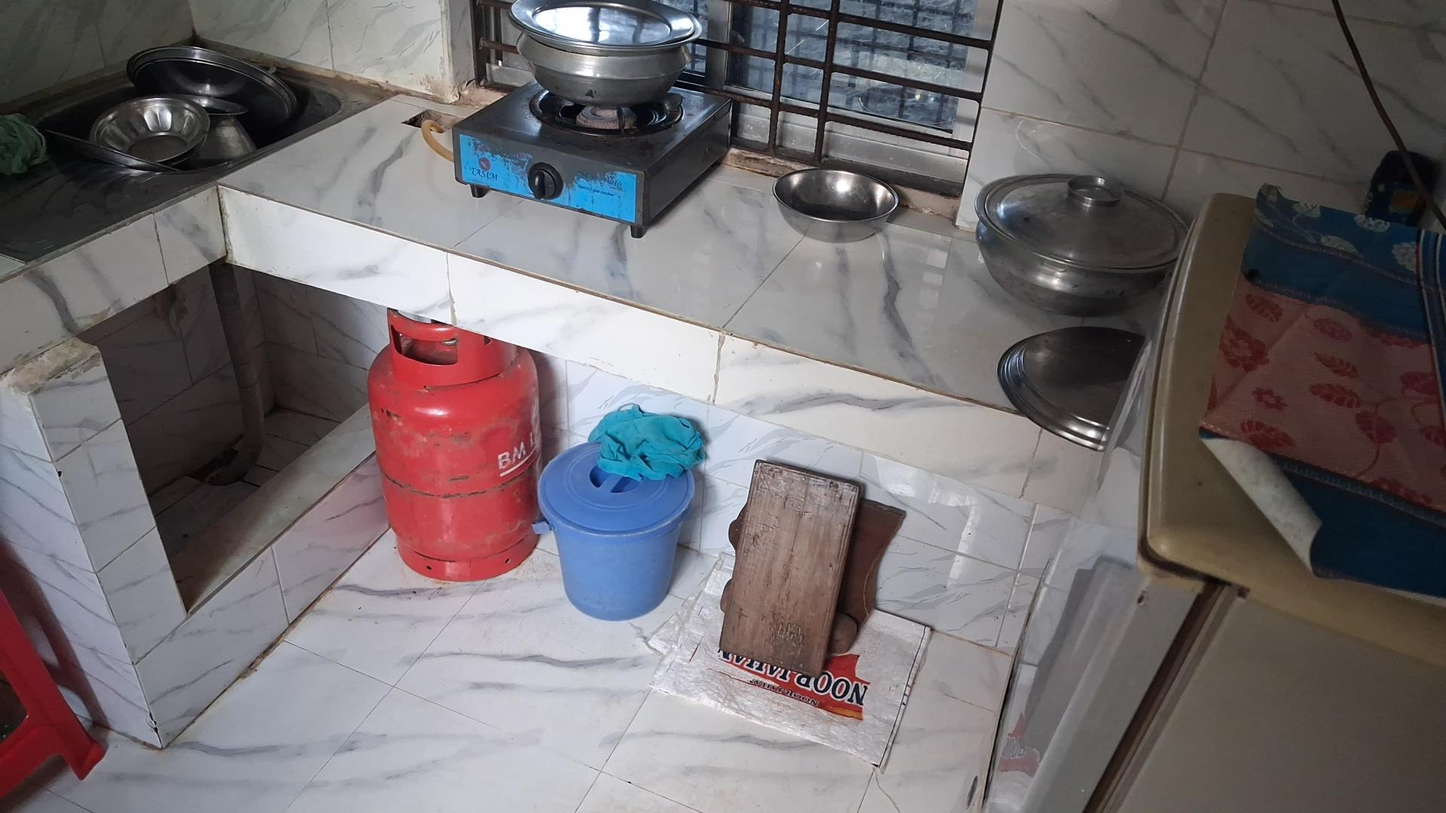Bowl: (773, 167, 898, 244), (93, 98, 206, 162)
Bucket: (541, 451, 694, 623)
Pot: (974, 172, 1191, 315), (507, 5, 703, 113)
